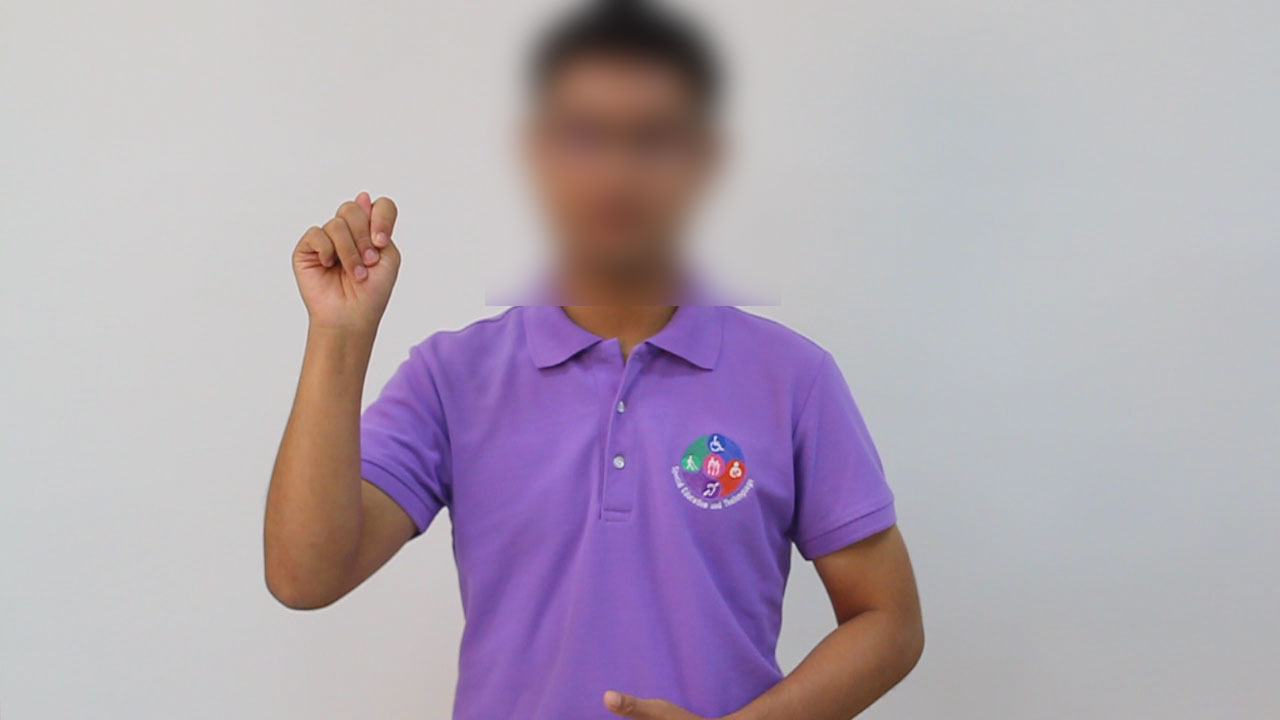tor: (274, 181, 422, 339)
